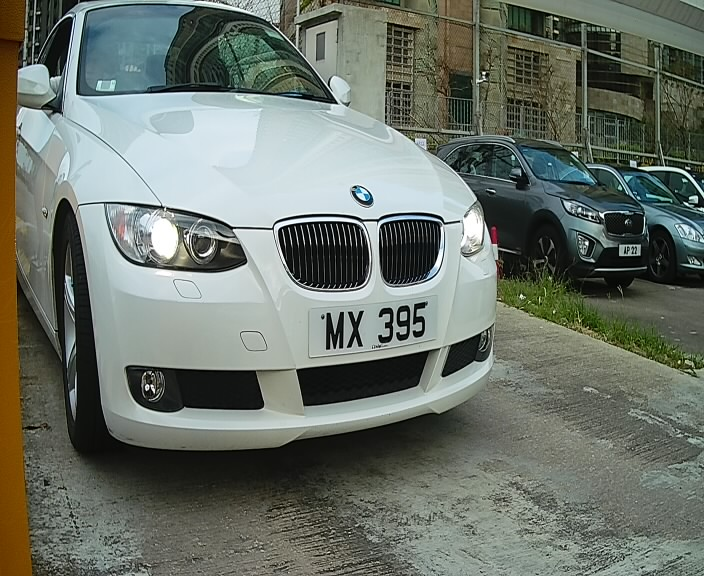License Plate: (299, 292, 447, 370)
